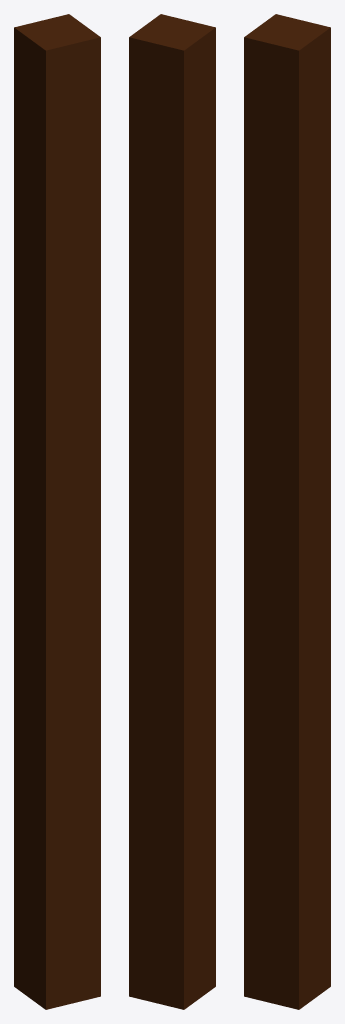
Rendered from grape.glb.
The picture shows the model from 3 angles, left to right: view 1: azimuth 30°, elevation 25°; view 2: azimuth 150°, elevation 25°; view 3: azimuth 330°, elevation 25°; orthographic projection.
Parts seen in each view (by area): view 1: stick; view 2: stick; view 3: stick.
Boxes of the visible parts, x1,y1,x2,y2 form: stick: (14,14,100,1009); stick: (129,14,215,1009); stick: (244,14,330,1009).
Size of the model in its own units: 0.12 by 2 by 0.12.
